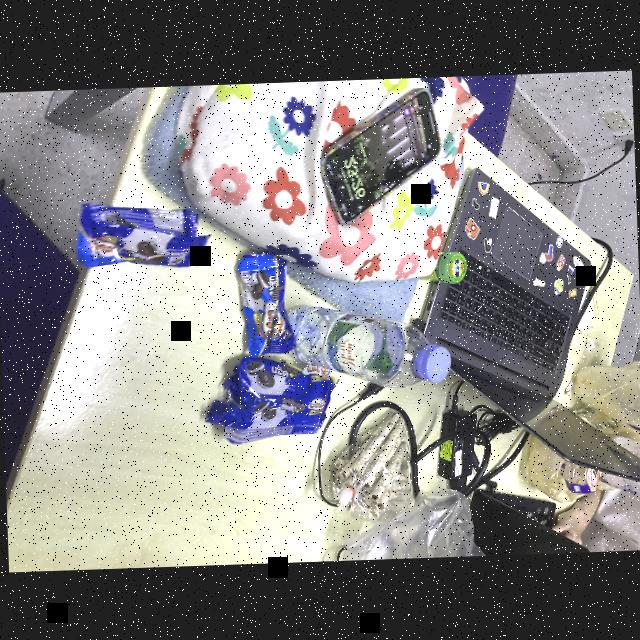plastic_bag: (336, 484, 486, 560), (520, 418, 606, 503), (570, 358, 640, 429)
plastic_bottle: (279, 297, 453, 392)
plastic_bottle_cap: (412, 341, 451, 383)
plastic_cup: (562, 451, 603, 494)
snack_bag: (70, 193, 212, 271), (327, 406, 418, 520), (198, 391, 340, 447), (218, 350, 344, 408), (234, 243, 294, 355)
